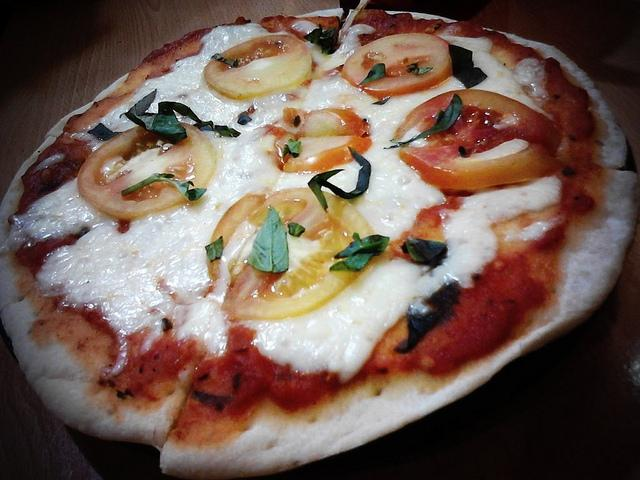tomato: (203, 188, 380, 322), (76, 122, 218, 221), (342, 32, 454, 98), (204, 34, 312, 100), (284, 136, 372, 173), (296, 108, 371, 140)
